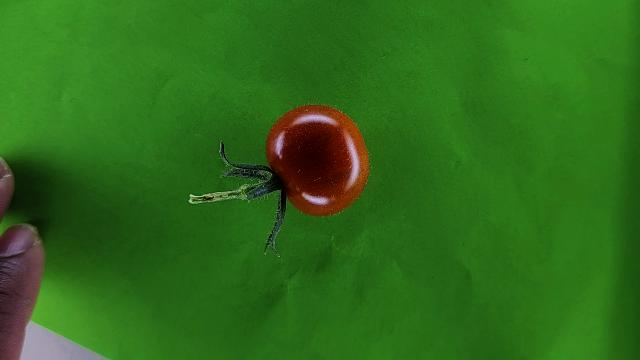Fully Grown: (264, 103, 373, 217)
